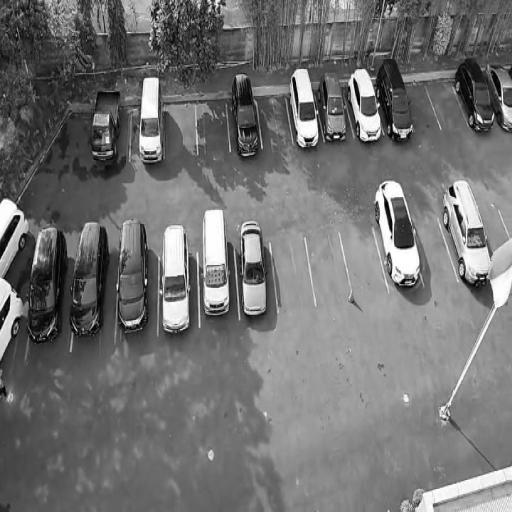Car: (367, 174, 427, 298), (438, 174, 500, 293), (24, 226, 69, 352), (69, 215, 108, 342), (369, 52, 419, 147), (448, 53, 502, 139), (114, 214, 152, 336), (157, 219, 194, 335), (282, 61, 325, 160), (343, 63, 388, 156), (198, 202, 232, 319), (312, 65, 355, 151), (228, 66, 261, 163), (238, 214, 268, 320), (0, 190, 33, 281), (88, 84, 124, 163), (135, 71, 164, 167), (481, 56, 512, 135), (0, 276, 27, 365)
Space Available: (338, 225, 389, 298), (268, 237, 316, 311), (306, 230, 352, 306), (413, 219, 455, 286), (163, 99, 198, 161), (425, 80, 469, 128), (256, 91, 293, 148), (194, 96, 230, 154), (404, 80, 441, 133), (480, 209, 510, 250)
